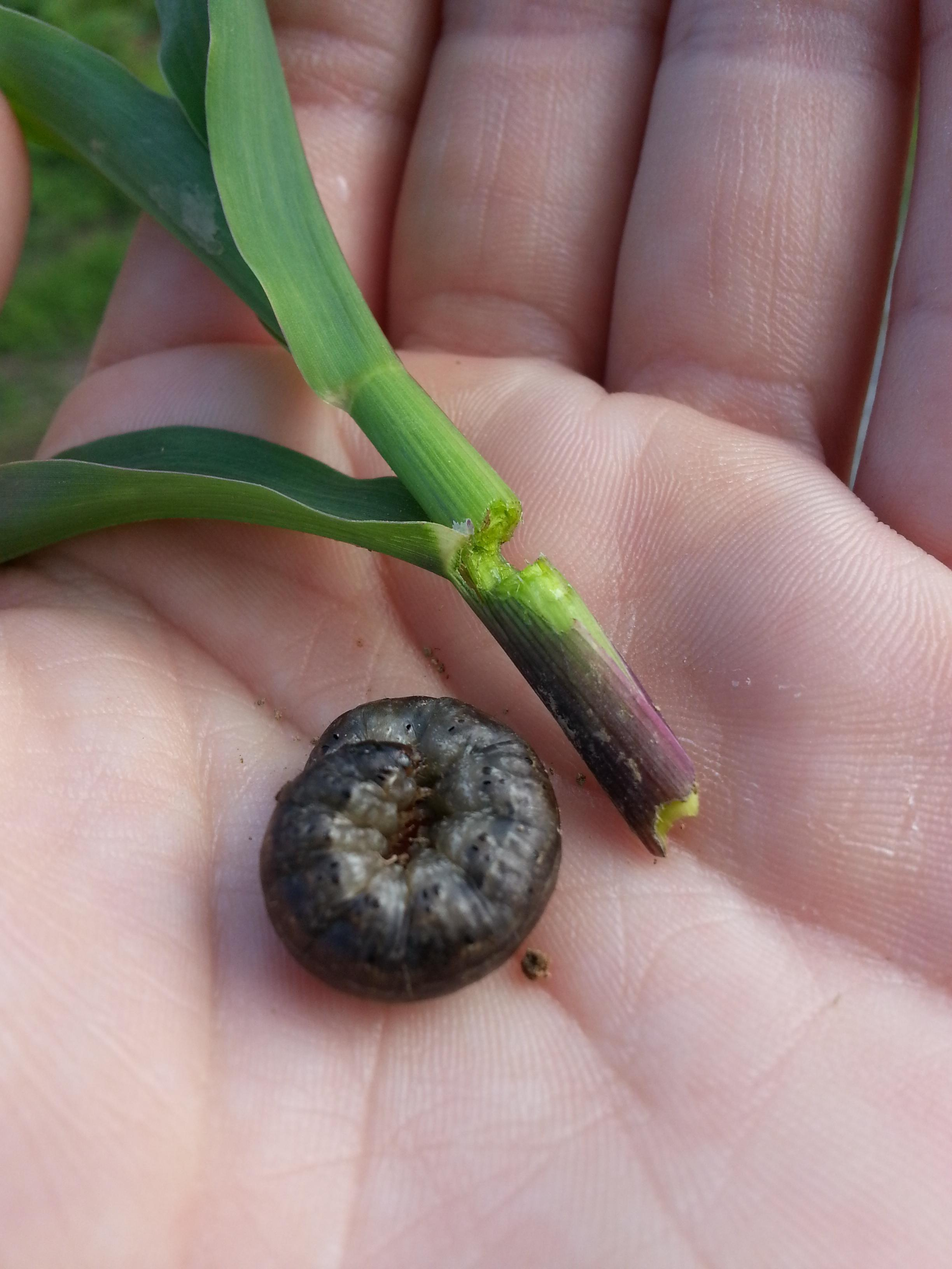caterpillars: (218, 638, 614, 1030)
